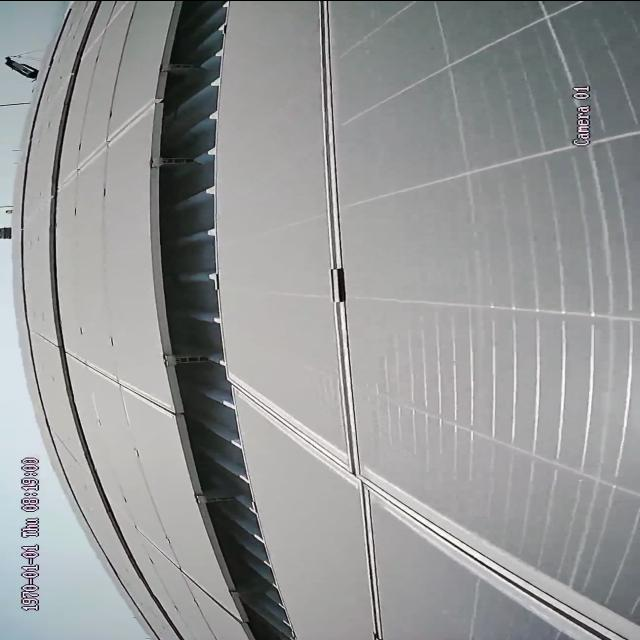interior panel: (242, 5, 638, 640), (138, 531, 232, 623), (67, 102, 144, 187), (79, 355, 164, 414)
outher panel: (159, 3, 300, 637)
